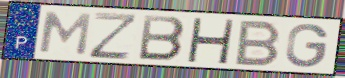B: (136, 13, 188, 63), (232, 19, 284, 68)
G: (284, 22, 331, 69)
H: (184, 17, 237, 66)
M: (36, 10, 94, 57)
Z: (87, 11, 141, 62)
